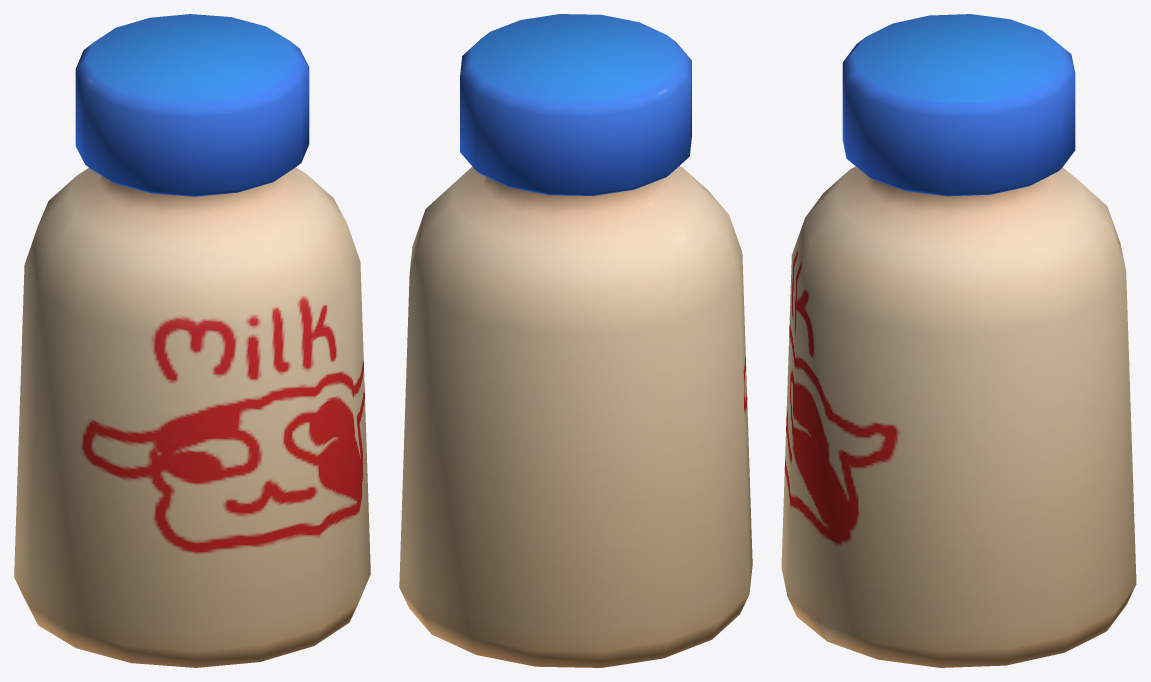
Rendered from Milk.fbx.
3 renders of one model, left to right at view 1: azimuth 30°, elevation 25°; view 2: azimuth 150°, elevation 25°; view 3: azimuth 270°, elevation 25°, orthographic.
Parts seen in each view (by area): view 1: Milk; view 2: Milk; view 3: Milk.
Boxes of the visible parts, <box> form: Milk: <box>14,14,370,667</box>; Milk: <box>399,14,752,667</box>; Milk: <box>781,14,1136,667</box>.
Size of the model in its own units: 11.08 by 18.85 by 11.08.
1 material, 1 textured.
